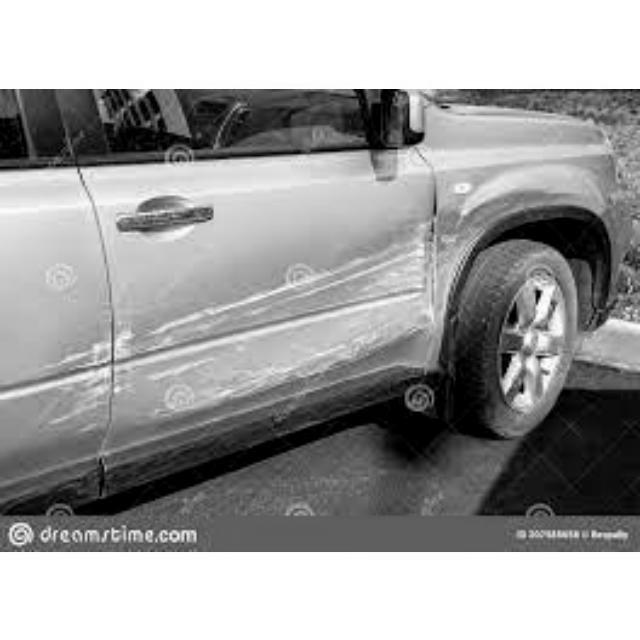doorouter-dent: (105, 164, 422, 401), (1, 173, 100, 449)
fender-dent: (432, 149, 621, 270)
